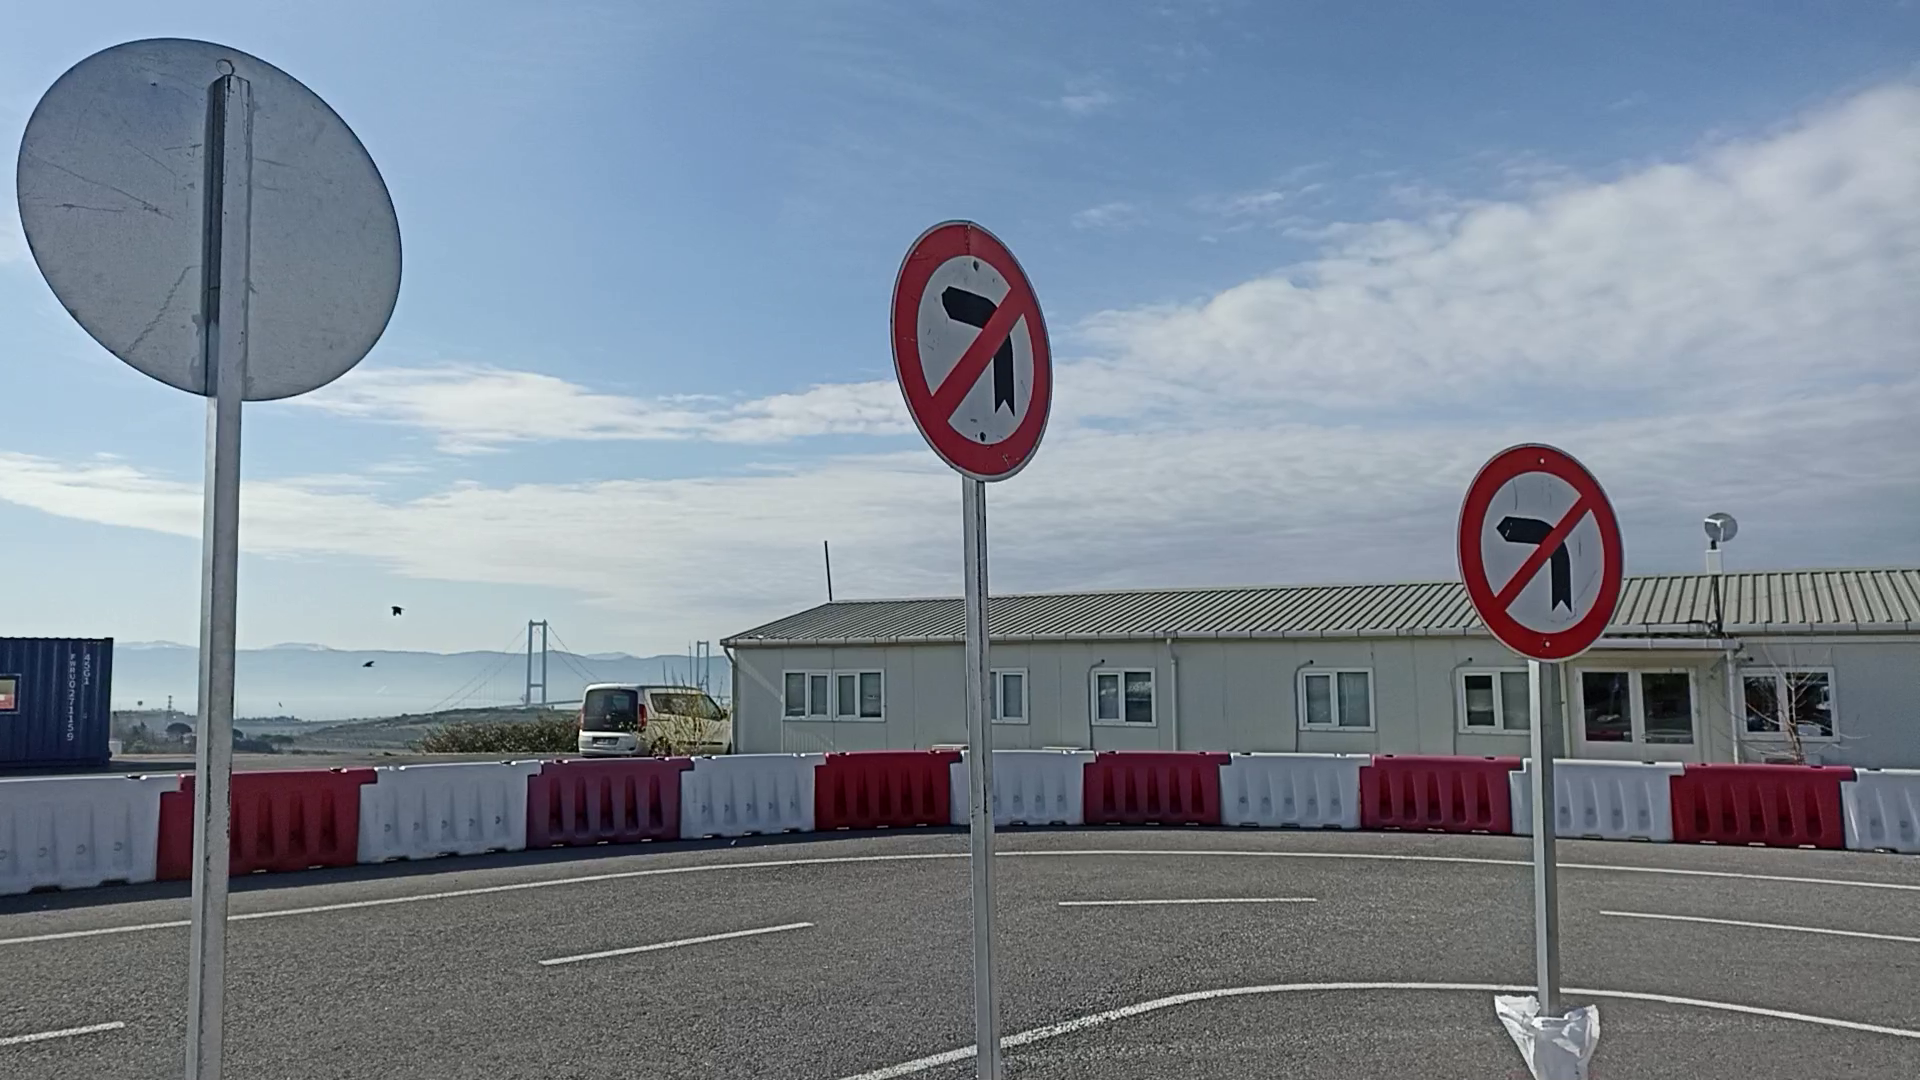noleft: (887, 215, 1056, 487), (1452, 440, 1630, 661)
